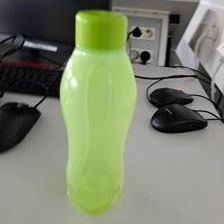bottle: (58, 7, 137, 213)
